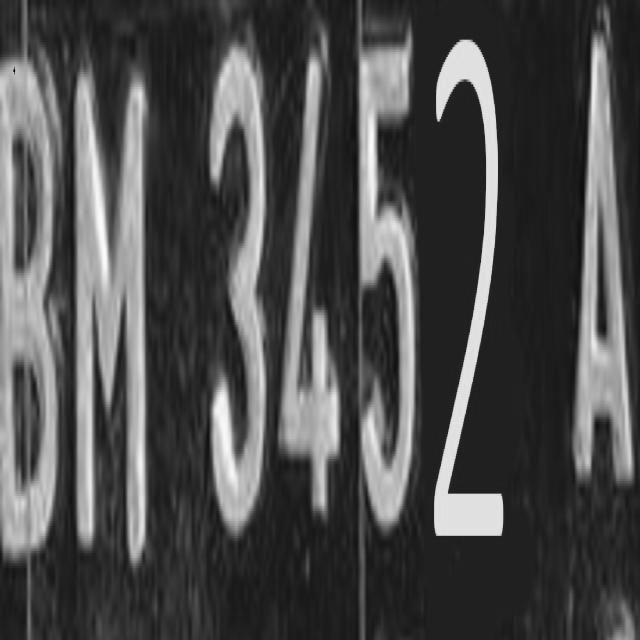2: (431, 28, 506, 556)
3: (200, 33, 276, 536)
4: (286, 25, 342, 526)
5: (351, 20, 426, 532)
A: (570, 20, 636, 498)
B: (0, 44, 64, 578)
M: (68, 56, 160, 564)
